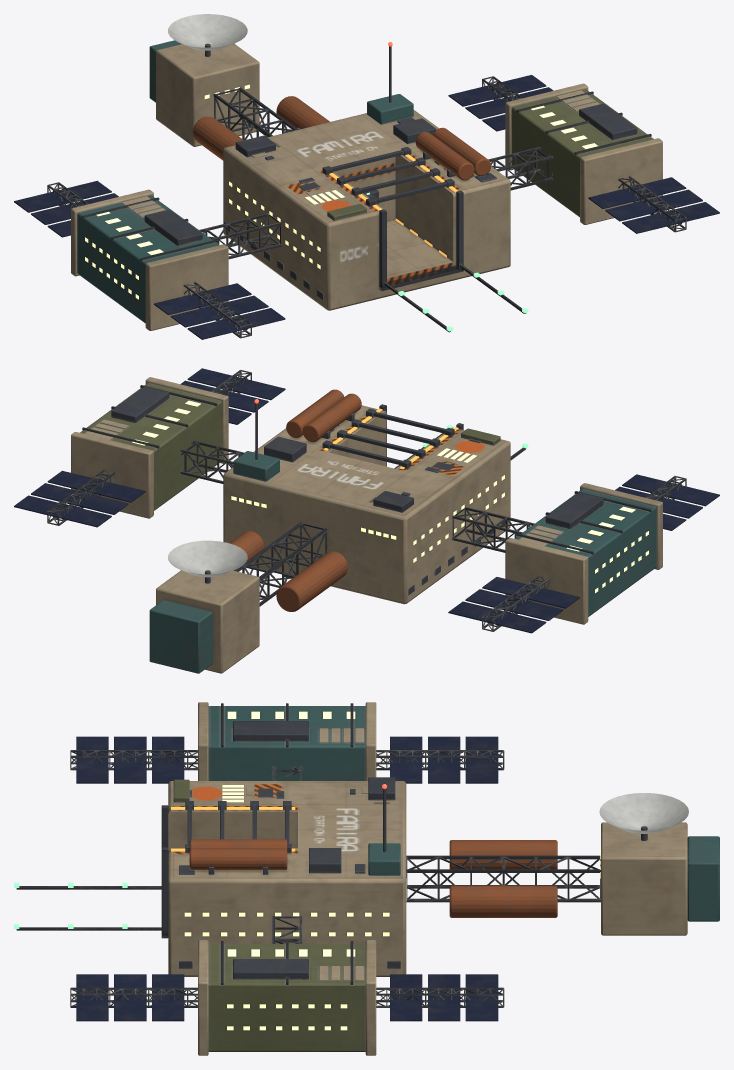
Rendered from station.glb.
3 renders of one model, top to bottom at view 1: azimuth 30°, elevation 25°; view 2: azimuth 150°, elevation 25°; view 3: azimuth 270°, elevation 25°, orthographic. The views are drawn at different scales.
Visible parts, largest first — view 1: Station, Glow; view 2: Station, Glow; view 3: Station, Glow.
Boxes of the visible parts, x1,y1,x2,y2 form: Station: (14,14,719,339); Glow: (85,42,597,331); Station: (14,368,719,673); Glow: (132,399,648,593); Station: (16,702,719,1055); Glow: (14,711,600,1030).
Bounding box in the file's own units: 124 × 36.8 × 130.
Materials: 5 (1 with a texture image).
